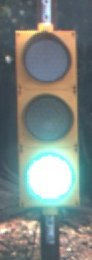Green: (8, 26, 92, 211)
